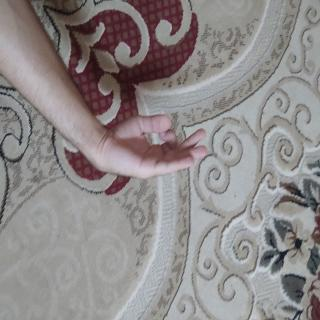Space: (84, 139, 140, 307)
